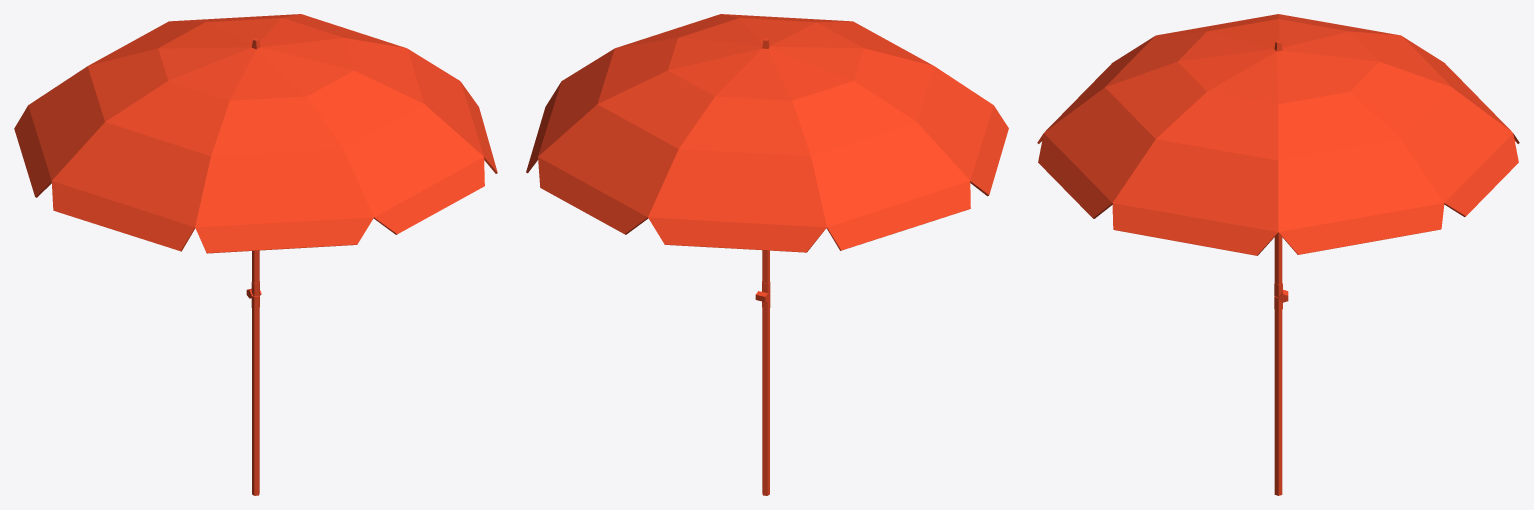
Rendered from SM_Umbrella_B_City.fbx.
The picture shows the model from 3 angles, left to right: view 1: azimuth 30°, elevation 25°; view 2: azimuth 150°, elevation 25°; view 3: azimuth 270°, elevation 25°; orthographic projection.
Visible parts, largest first — view 1: SM_Umbrella_B_City; view 2: SM_Umbrella_B_City; view 3: SM_Umbrella_B_City.
Part boxes in pixels (bbox=[...]): SM_Umbrella_B_City: bbox=[14, 14, 497, 495]; SM_Umbrella_B_City: bbox=[526, 14, 1008, 495]; SM_Umbrella_B_City: bbox=[1037, 14, 1519, 495].
Bounding box in the file's own units: 2.13 × 2.17 × 2.1.
